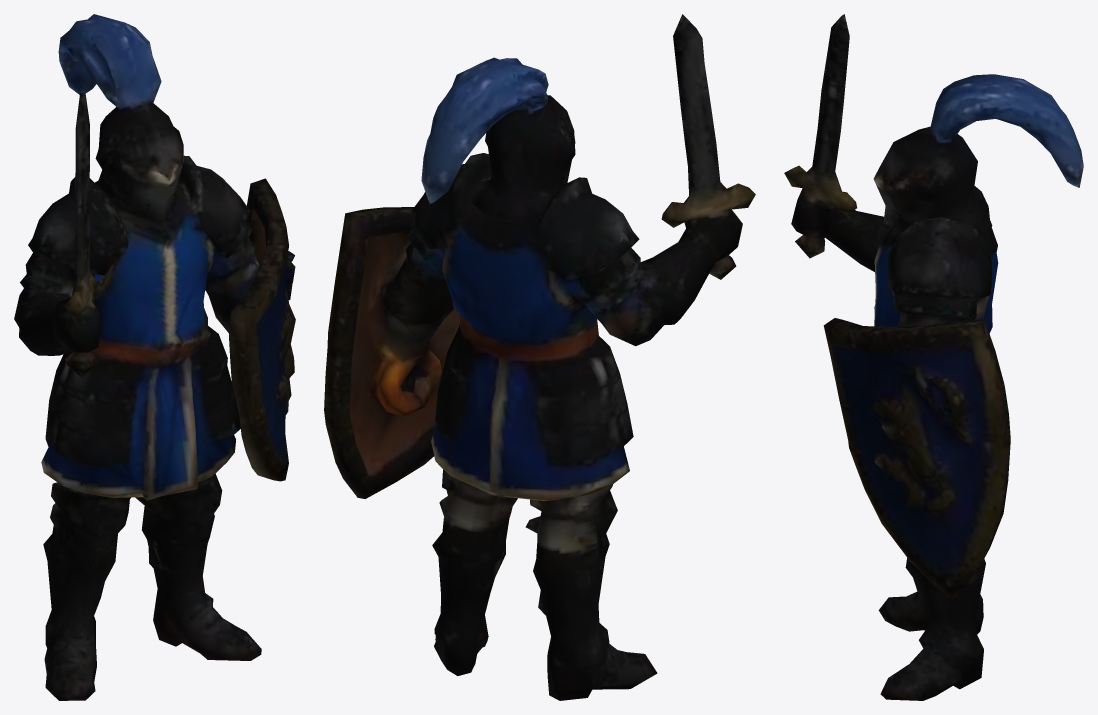
Rendered from detail_9_lo2.glb.
3 renders of one model, left to right at view 1: azimuth 30°, elevation 25°; view 2: azimuth 150°, elevation 25°; view 3: azimuth 270°, elevation 25°, orthographic. The views are drawn at different scales.
Visible parts, largest first — view 1: Mesh_0.001; view 2: Mesh_0.001; view 3: Mesh_0.001.
Part boxes in pixels (x1,y1,x2,y2): Mesh_0.001: (14, 14, 295, 700); Mesh_0.001: (324, 14, 755, 700); Mesh_0.001: (784, 14, 1083, 700).
Size of the model in its own units: 0.5194 by 1 by 0.4572.
1 material, 1 textured.
